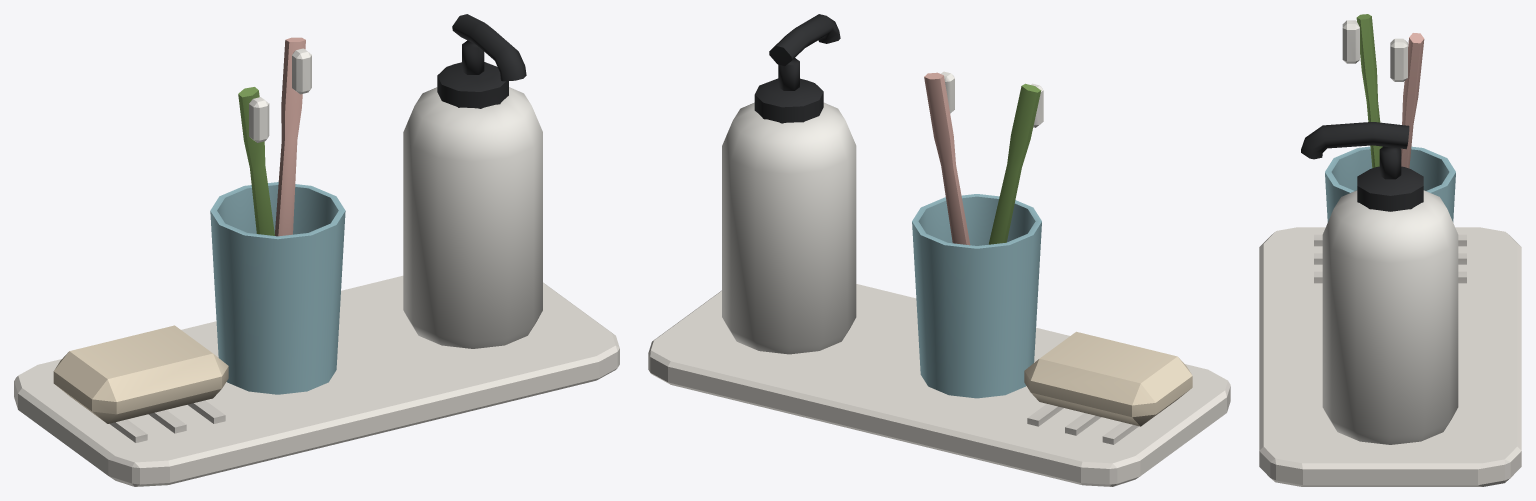
Rendered from soapSet.glb.
The picture shows the model from 3 angles, left to right: view 1: azimuth 30°, elevation 25°; view 2: azimuth 150°, elevation 25°; view 3: azimuth 270°, elevation 25°; orthographic projection. The views are drawn at different scales.
Parts seen in each view (by area): view 1: soapSet; view 2: soapSet; view 3: soapSet.
Part boxes in pixels (x1,y1,x2,y2): soapSet: [14, 14, 619, 486]; soapSet: [648, 14, 1230, 486]; soapSet: [1259, 14, 1521, 486].
Bounding box in the file's own units: 0.26 × 0.1657 × 0.12.
